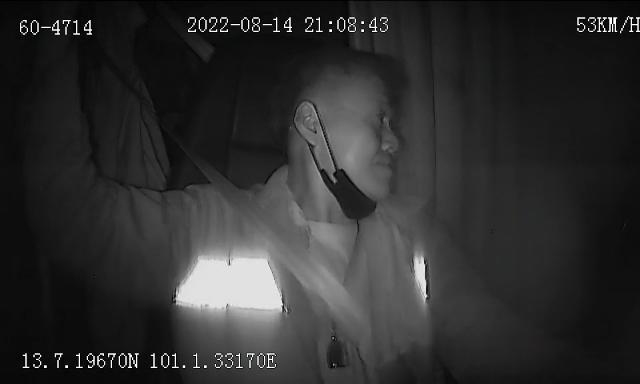Seatbelt: (188, 148, 374, 352)
